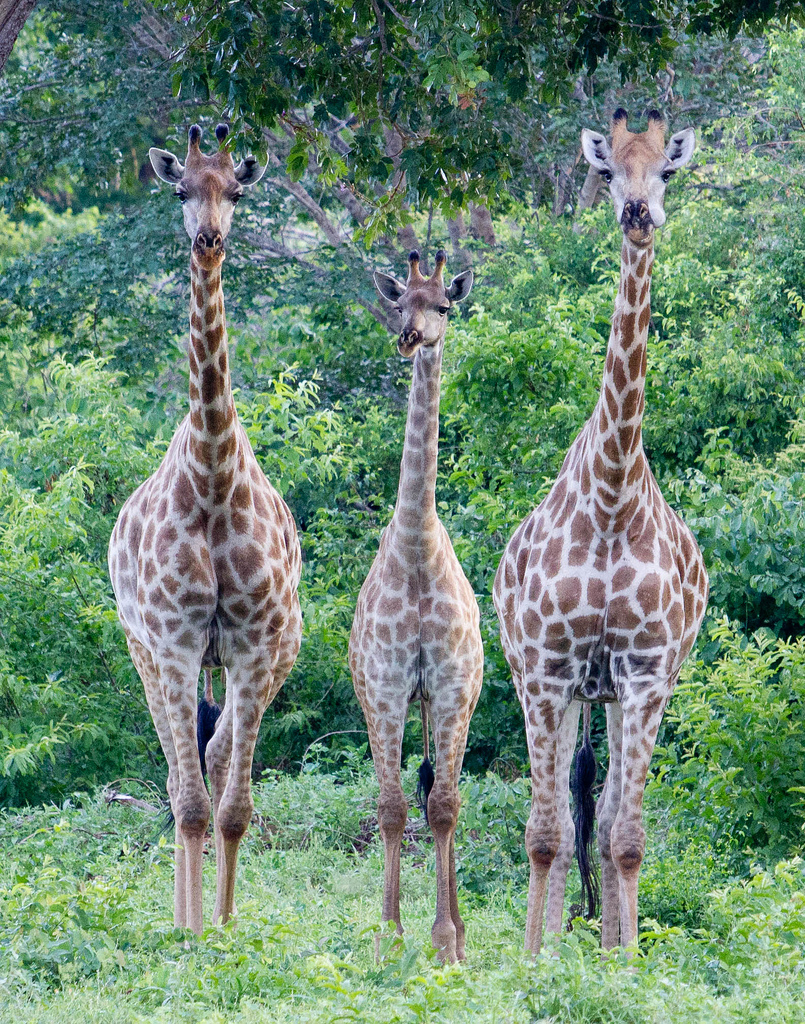giraffe: (77, 119, 327, 933), (527, 62, 723, 927), (350, 217, 503, 943)
